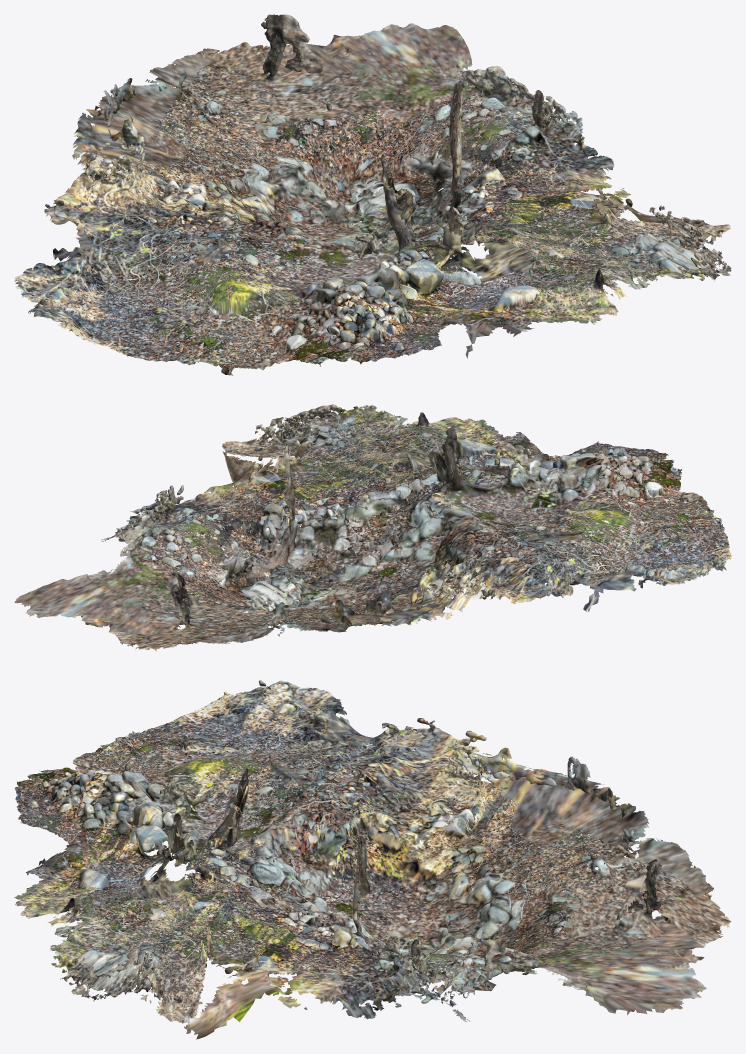
The model's file is abound_20261120-1517_cellar_13.glb.
The picture shows the model from 3 angles, top to bottom: view 1: azimuth 30°, elevation 25°; view 2: azimuth 150°, elevation 25°; view 3: azimuth 270°, elevation 25°; orthographic projection. The views are drawn at different scales.
Parts seen in each view (by area): view 1: Scene; view 2: Scene; view 3: Scene.
Boxes of the visible parts, x1,y1,x2,y2 form: Scene: (14, 14, 731, 375); Scene: (14, 404, 731, 651); Scene: (14, 680, 731, 1039).
Bounding box in the file's own units: 11.32 × 2.66 × 11.44.
2 materials, 2 textured.
